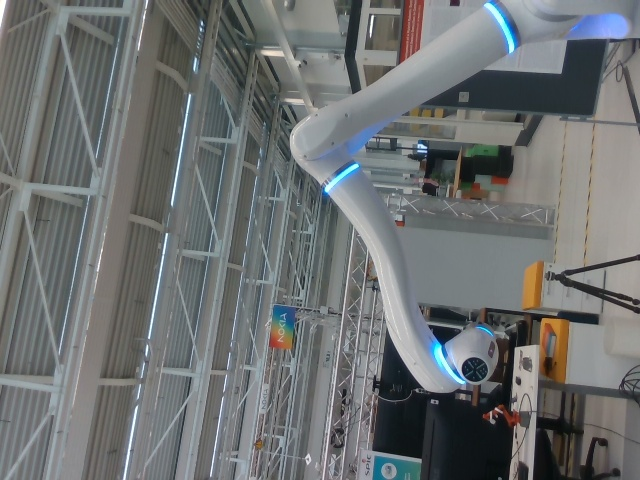Robot arm: (289, 1, 639, 393)
